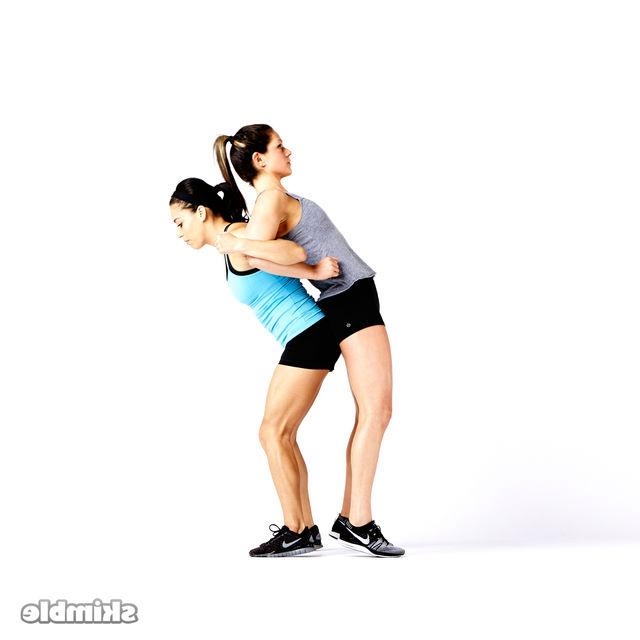adult: (215, 124, 407, 558), (166, 174, 341, 560)
